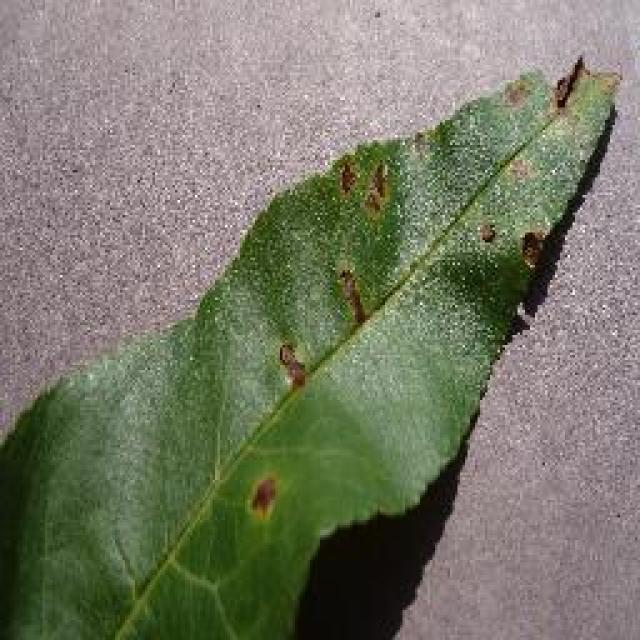Peach_Bacterial_Spot: (250, 192, 500, 510)
